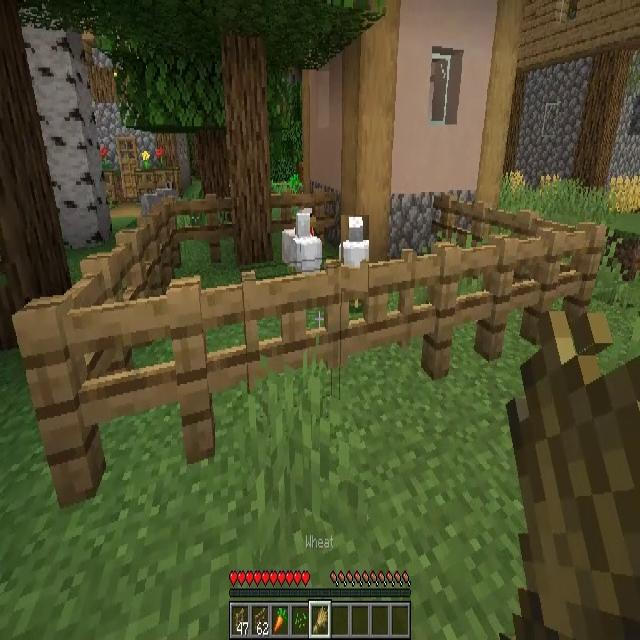duck: (284, 210, 322, 276), (341, 215, 369, 292)
